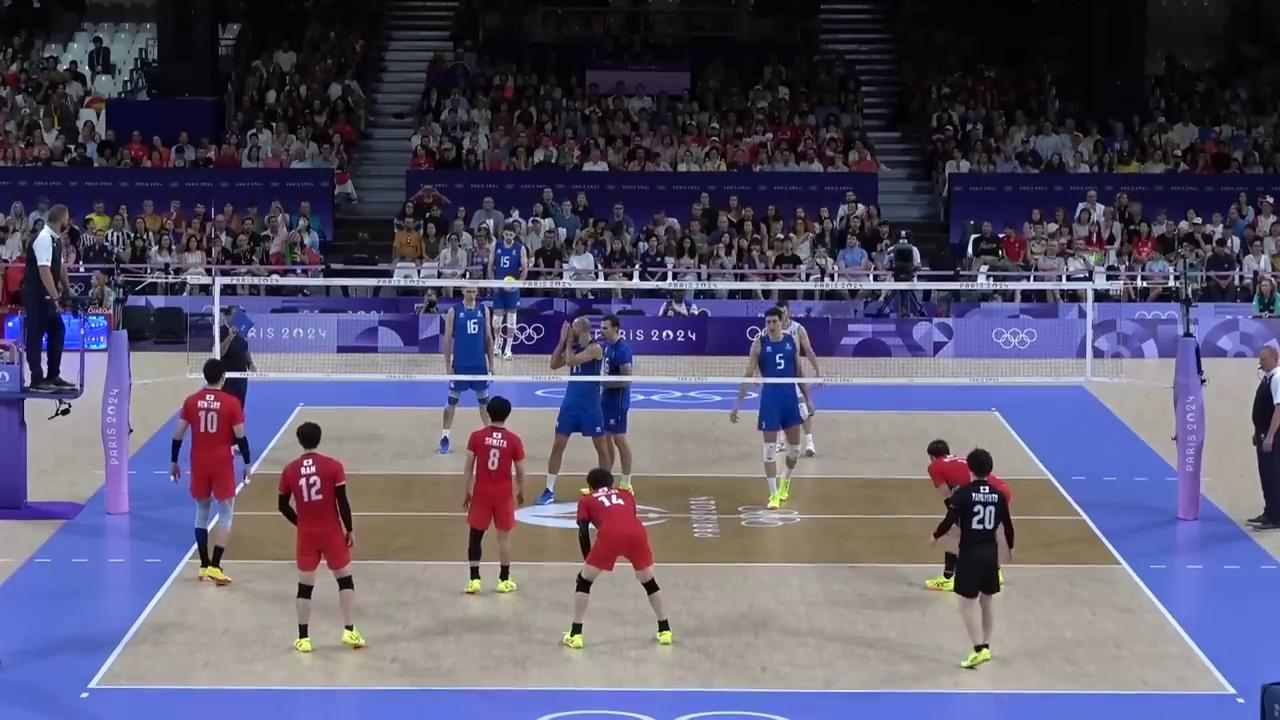ball: (502, 277, 516, 292)
